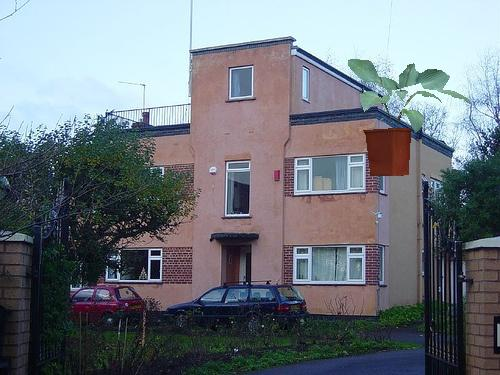tampered: (349, 60, 471, 176)
